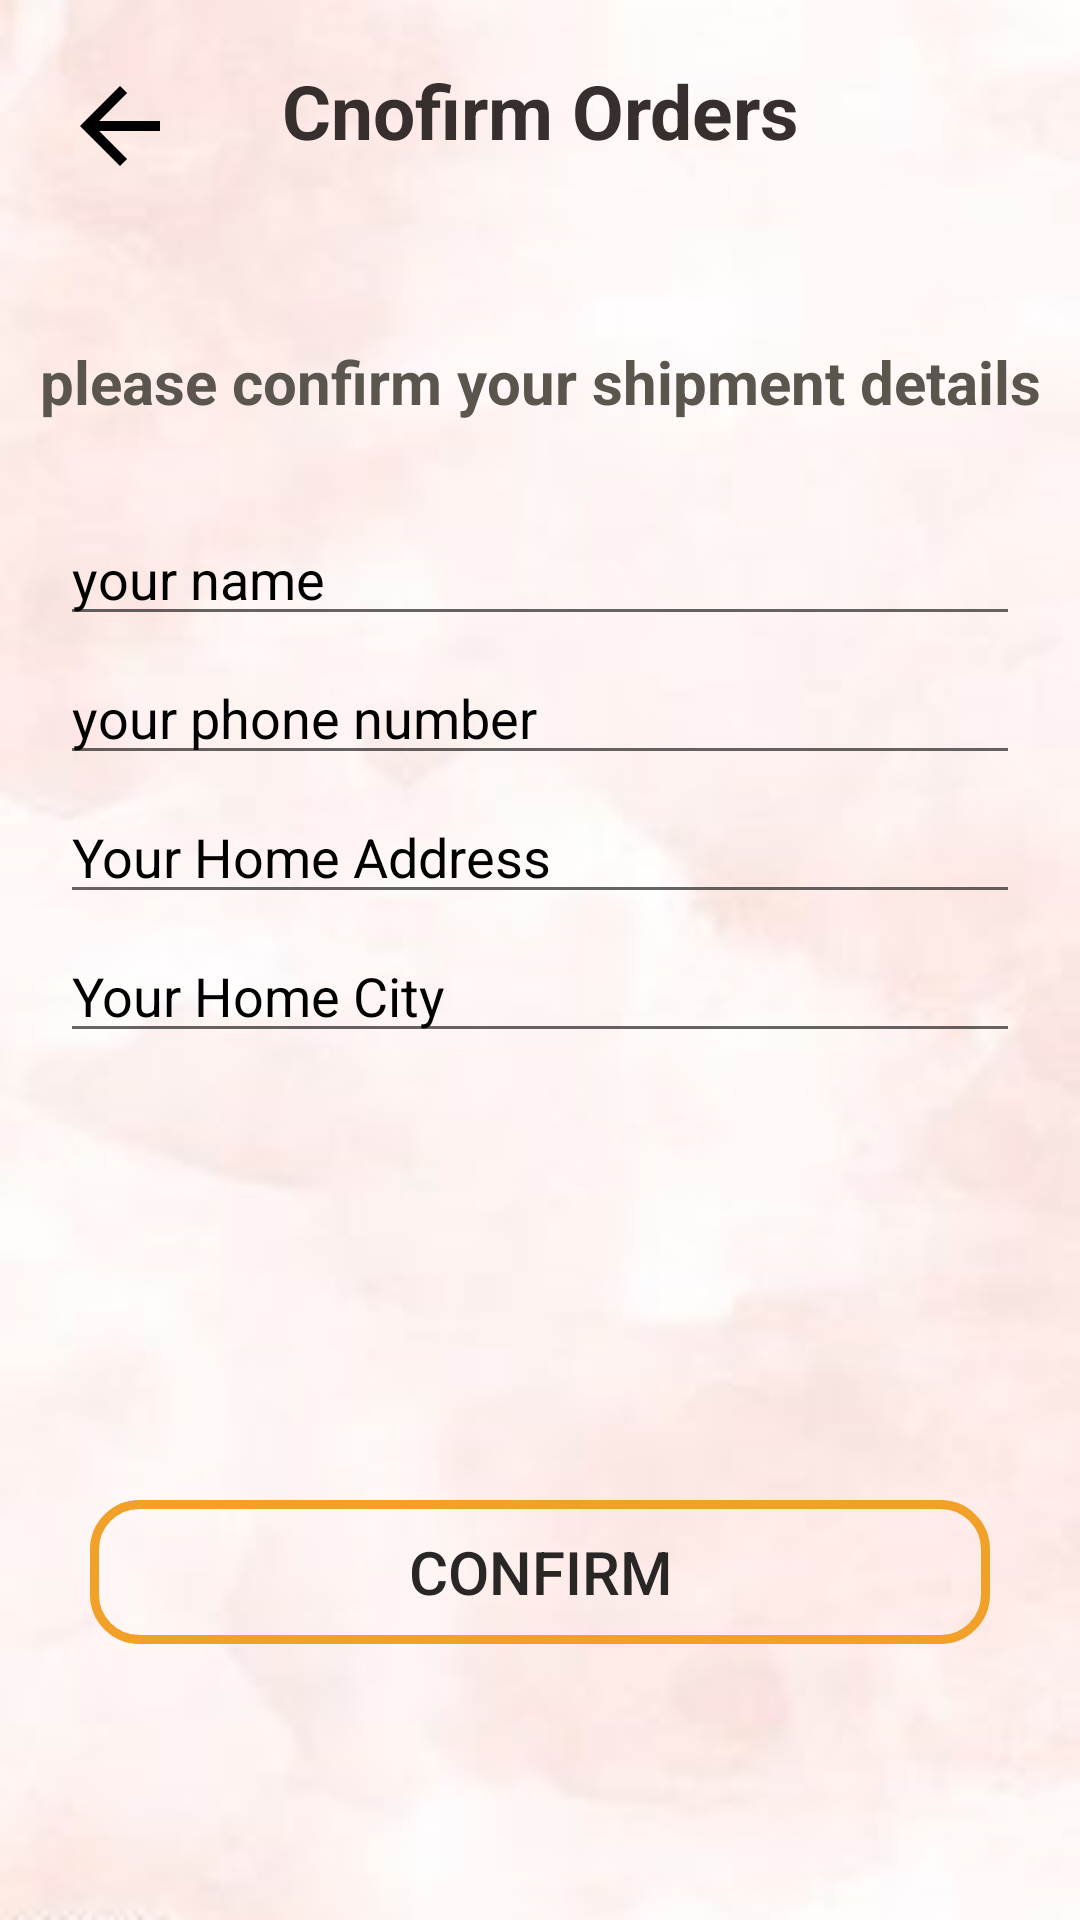

Icons on this 1080 x 1920 Android screen, each with the point to tap as (x,y):
back: (120,126)
